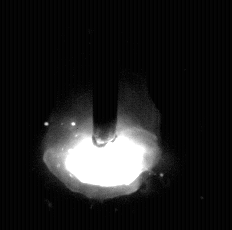arame: (93, 0, 118, 146)
poca: (44, 0, 160, 230)
